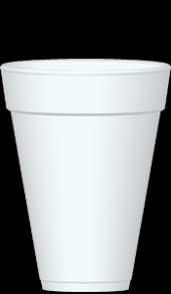Plastic cup: (2, 46, 171, 294)
